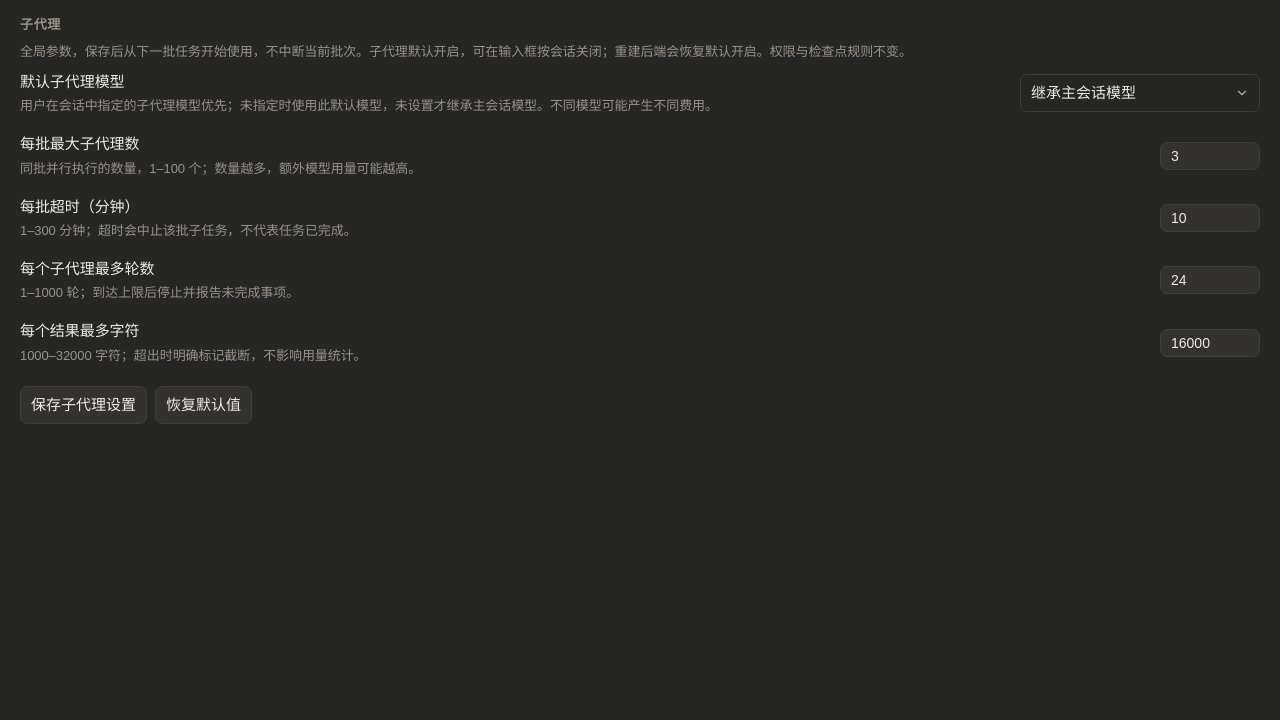
SubagentSettings › rejects invalid values and preserves editable values after a save failure
Replace the text in the number field labelled "每批最大子代理数" with "101". click: (1210, 156)
box: [1160,142,1260,170]
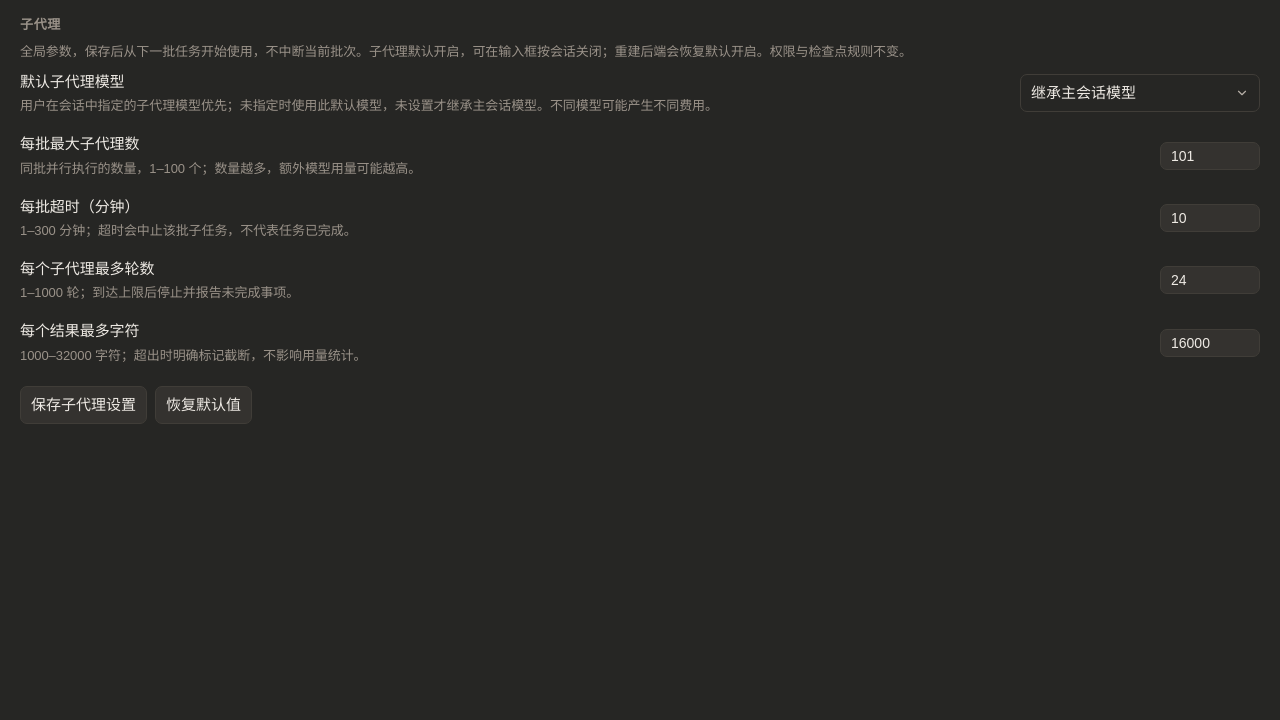
Submit the form
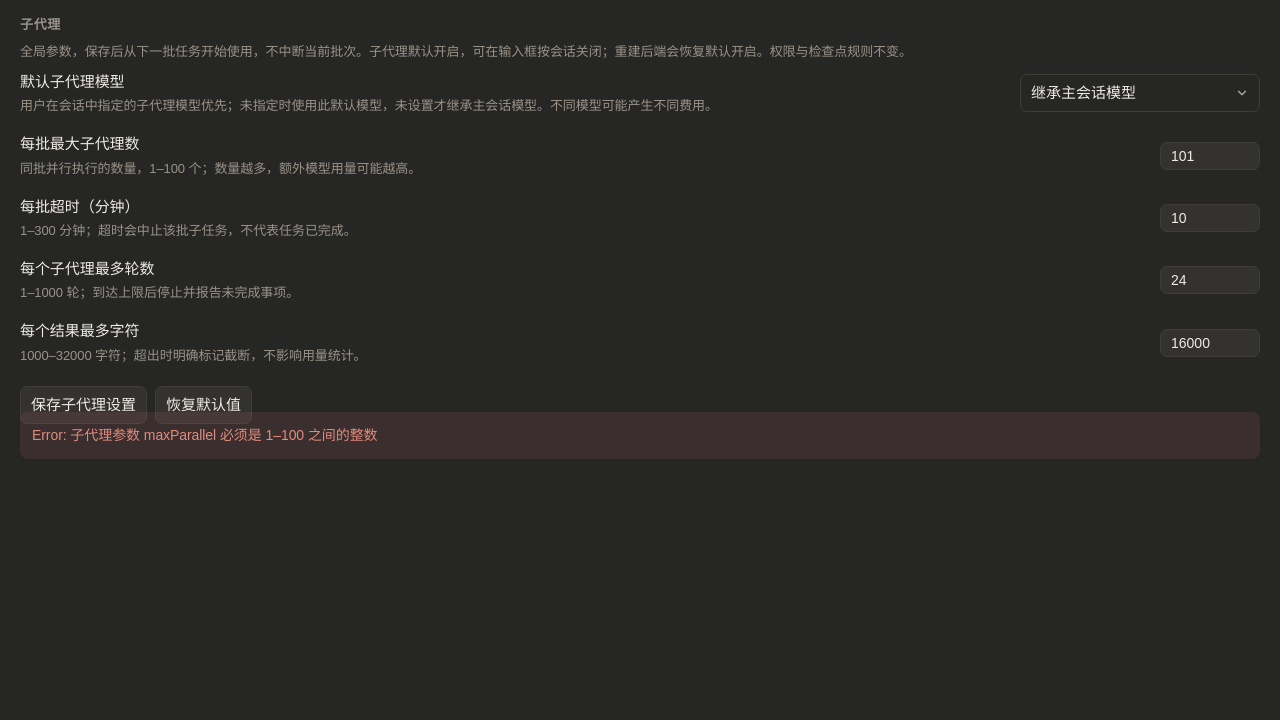
expect the message shows "1–100": met, box [32,427,378,443]
Replace the text in the number field labelled "每批最大子代理数" with "4". click: (1210, 156)
box: [1160,142,1260,170]
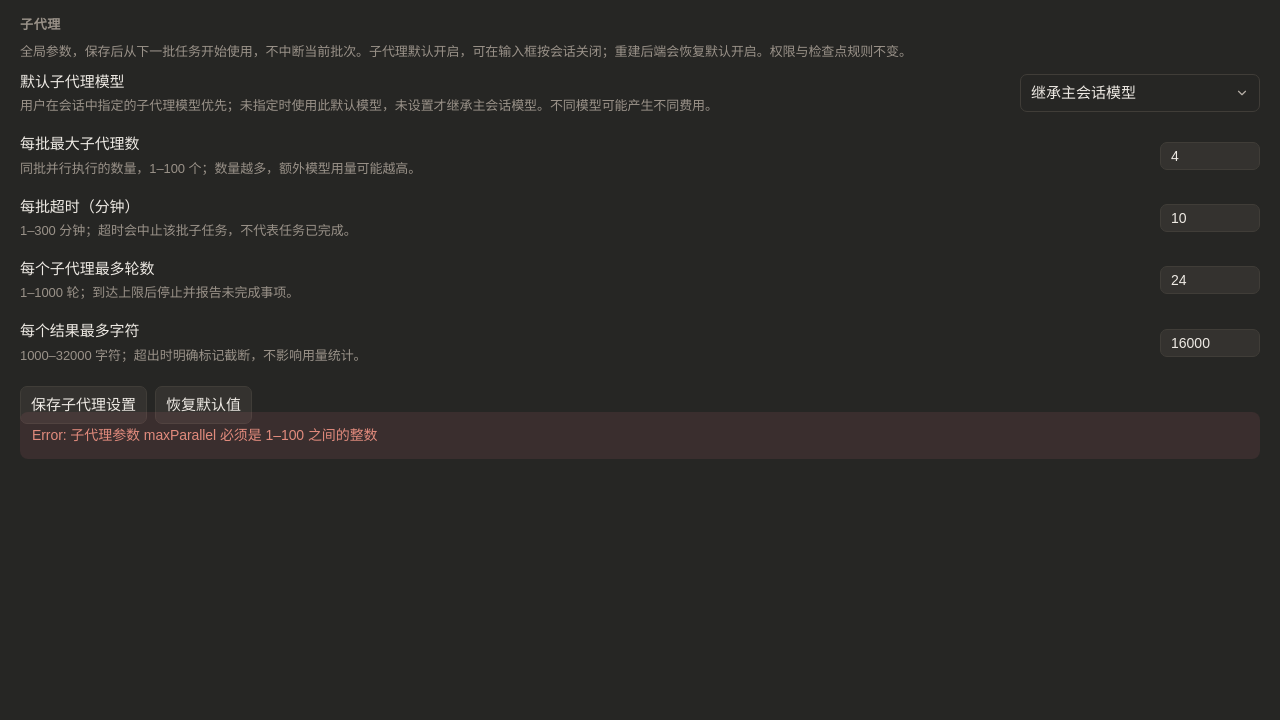
Submit the form
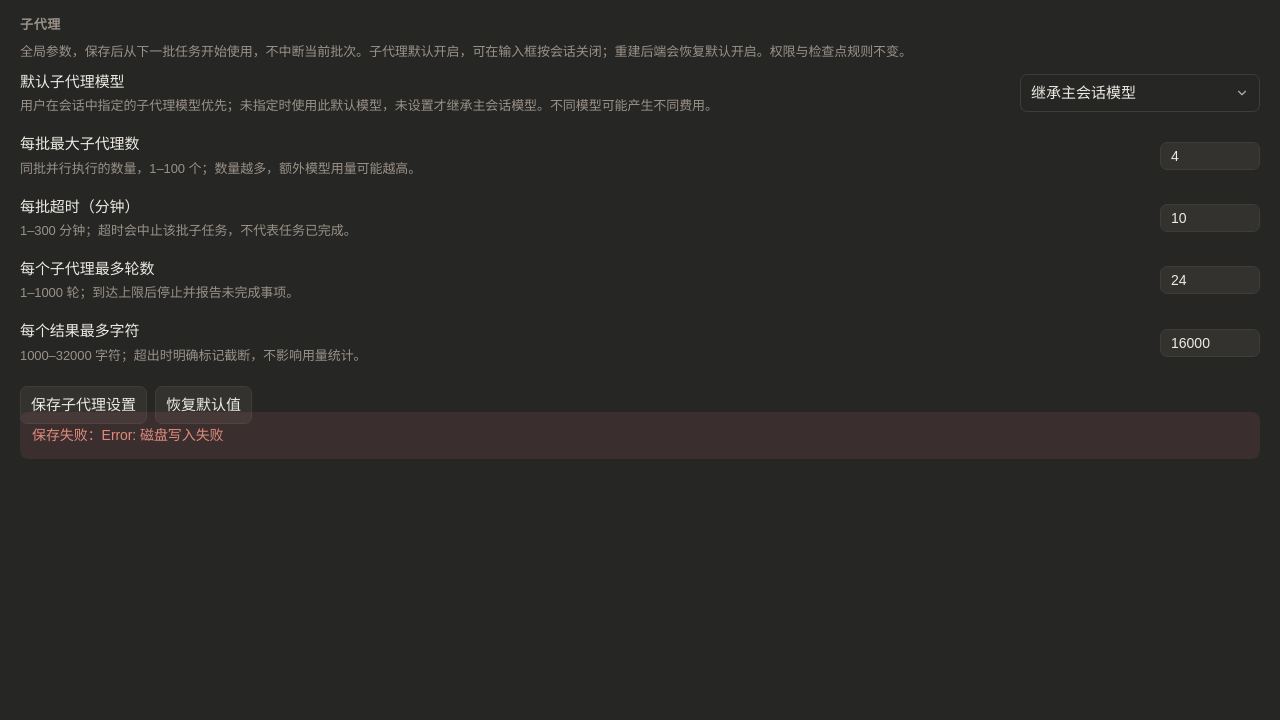
expect the number field labelled "每批最大子代理数" is enabled: met, box [1160,142,1260,170]
expect the message shows "磁盘写入失败": met, box [32,427,224,443]
Click the button "恢复默认值". click: (204, 405)
box: [155,386,252,424]
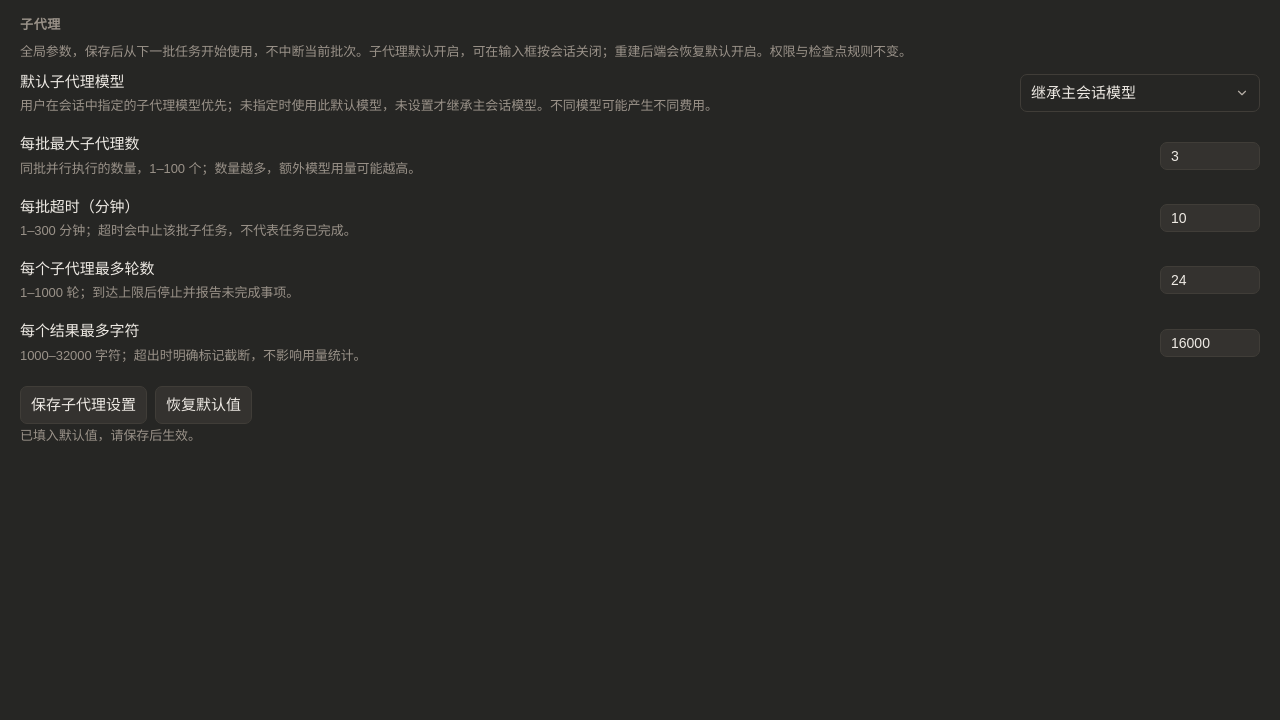
expect the number field labelled "每批最大子代理数" holds "3": met, box [1160,142,1260,170]
expect the message shows "请保存": met, box [20,428,201,443]
